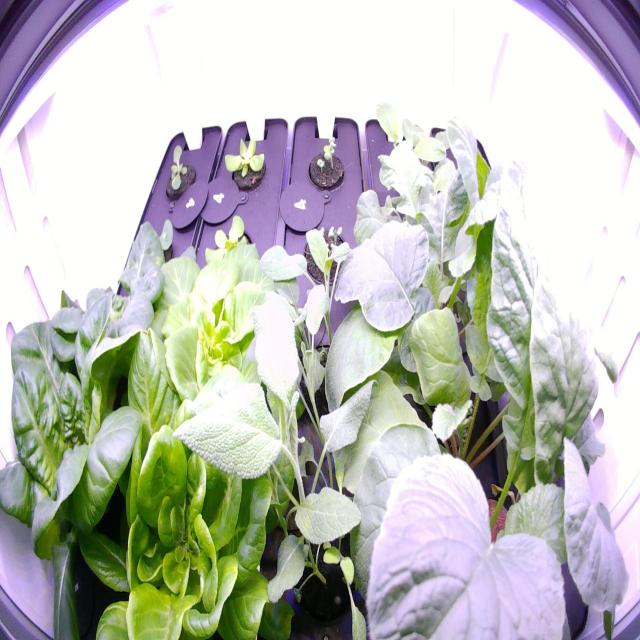Ready: (66, 317, 314, 638), (0, 294, 141, 636)
germination: (306, 132, 350, 200)
young: (121, 234, 319, 456), (48, 212, 174, 400), (198, 210, 262, 284), (222, 128, 269, 206), (156, 137, 200, 208)
